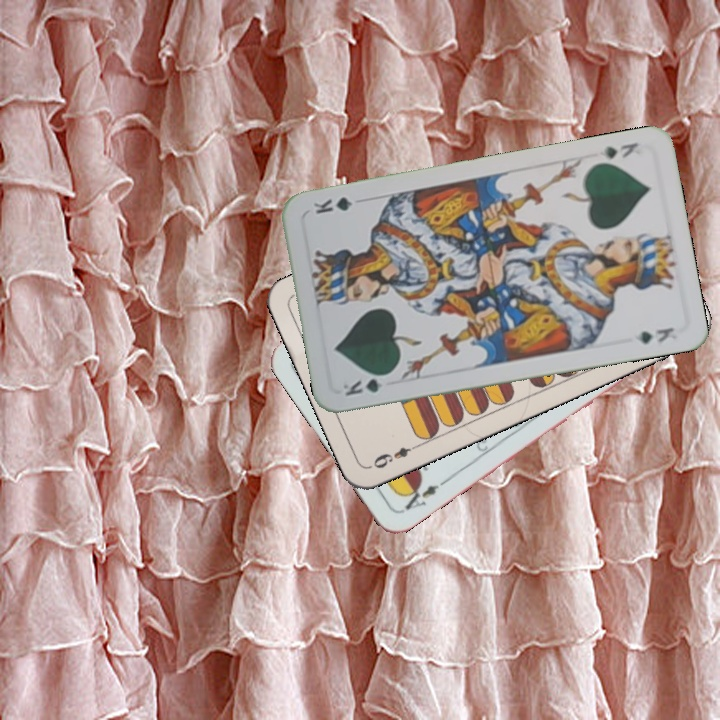E9: (366, 439, 422, 471)
EA: (397, 475, 450, 513)
GK: (338, 369, 394, 399), (596, 138, 641, 162)
